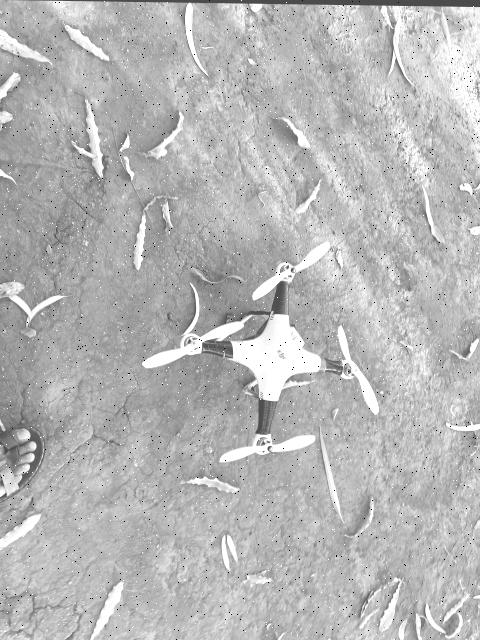drone: (81, 173, 445, 545)
